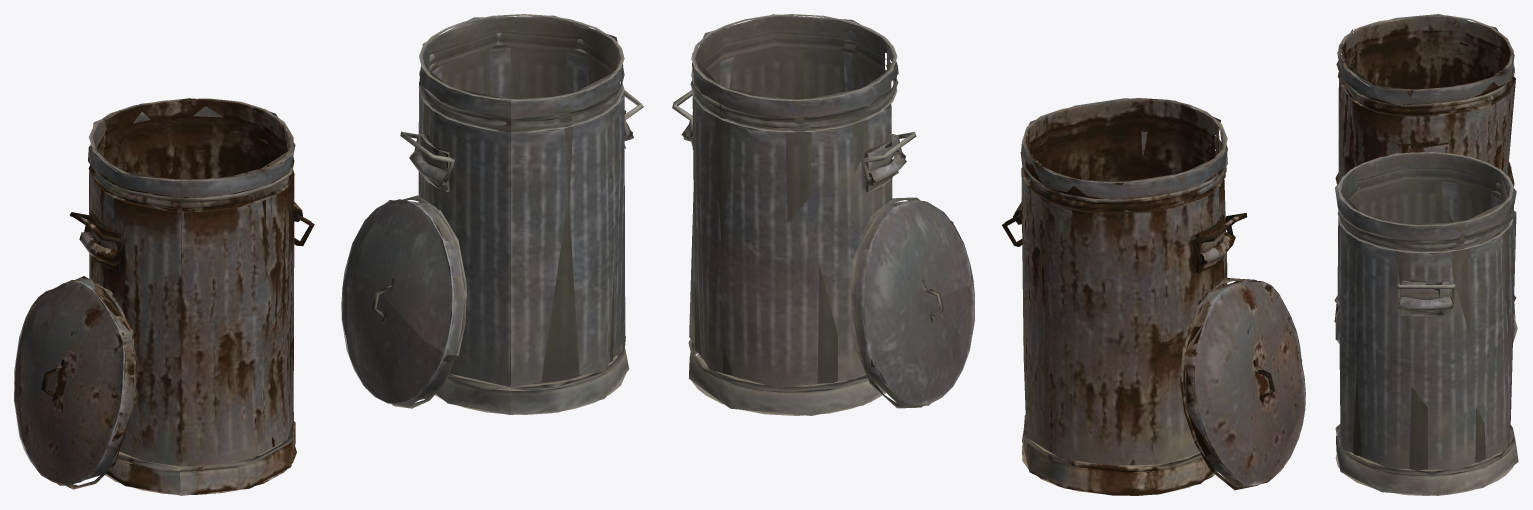
Rendered from trashcan.glb.
The picture shows the model from 3 angles, left to right: view 1: azimuth 30°, elevation 25°; view 2: azimuth 150°, elevation 25°; view 3: azimuth 270°, elevation 25°; orthographic projection. The views are drawn at different scales.
Parts seen in each view (by area): view 1: metal_trash_can, metal_trash_can_rust, metal_trash_can_lid, metal_trash_can_rust_lid; view 2: metal_trash_can, metal_trash_can_rust, metal_trash_can_lid, metal_trash_can_rust_lid; view 3: metal_trash_can, metal_trash_can_rust, metal_trash_can_handle_right, metal_trash_can_lid.
Part boxes in pixels (x1,y1,x2,y2): metal_trash_can: (409, 14, 633, 414); metal_trash_can_rust: (79, 98, 302, 495); metal_trash_can_lid: (341, 195, 466, 408); metal_trash_can_rust_lid: (14, 276, 136, 489); metal_trash_can: (681, 14, 906, 415); metal_trash_can_rust: (1013, 98, 1235, 495); metal_trash_can_lid: (849, 197, 974, 408); metal_trash_can_rust_lid: (1180, 278, 1305, 490); metal_trash_can: (1335, 152, 1518, 495); metal_trash_can_rust: (1334, 14, 1515, 322); metal_trash_can_handle_right: (1395, 283, 1455, 303); metal_trash_can_lid: (1335, 309, 1517, 343).
Size of the model in its own units: 1.78 by 0.9065 by 0.5636.
3 materials, 3 textured.
